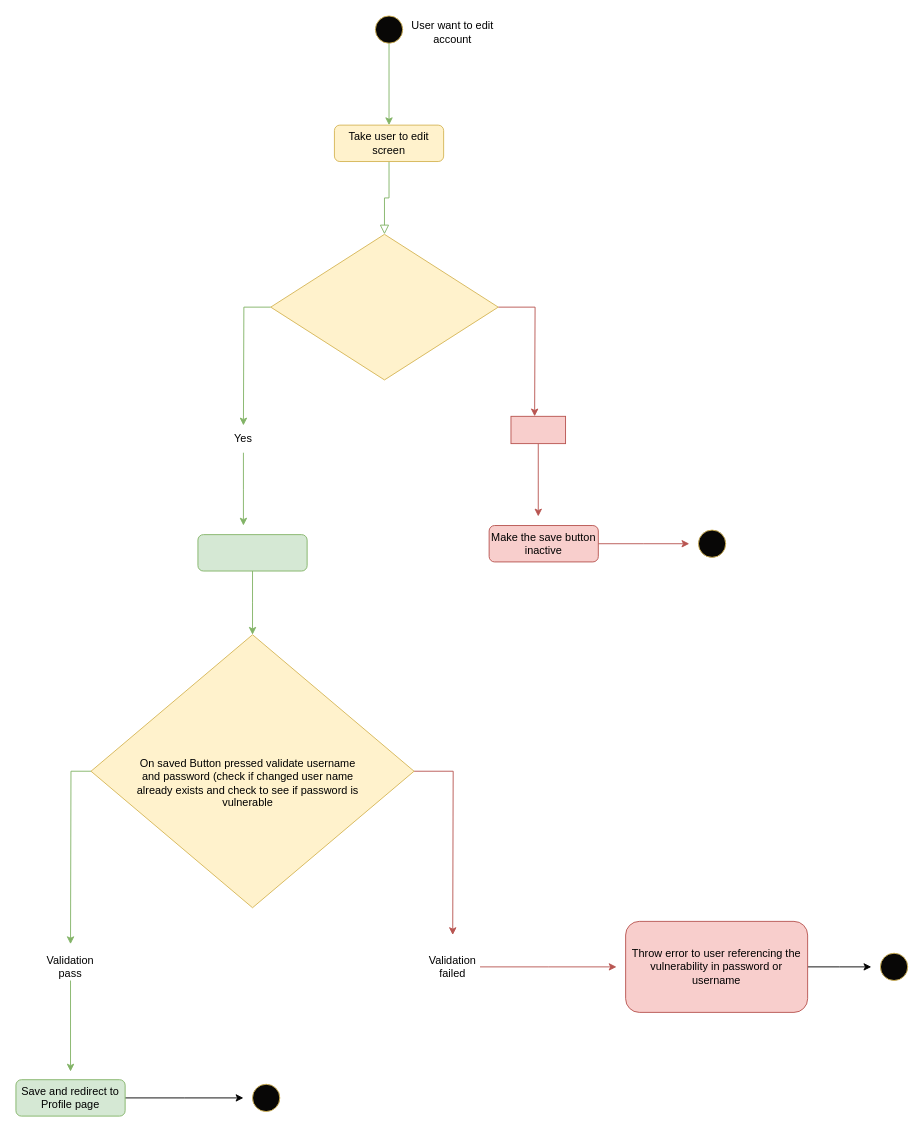
Image size: 924x1132. Some labels were removed from this diagram. Each missing label, with the box of its shape:
Check if changes where made to each Input field: (270, 233, 498, 380)
Make save button active: (197, 534, 307, 571)
No: (510, 415, 566, 444)
